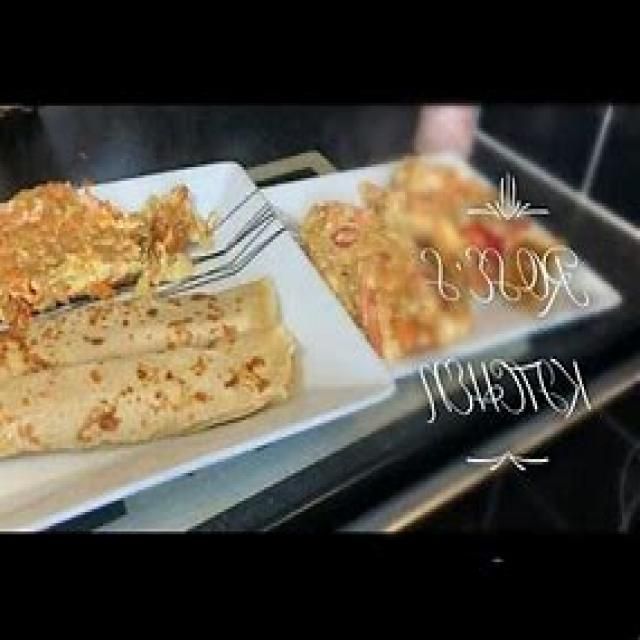Omelette: (2, 164, 208, 309)
Pancakes: (7, 259, 295, 467)
